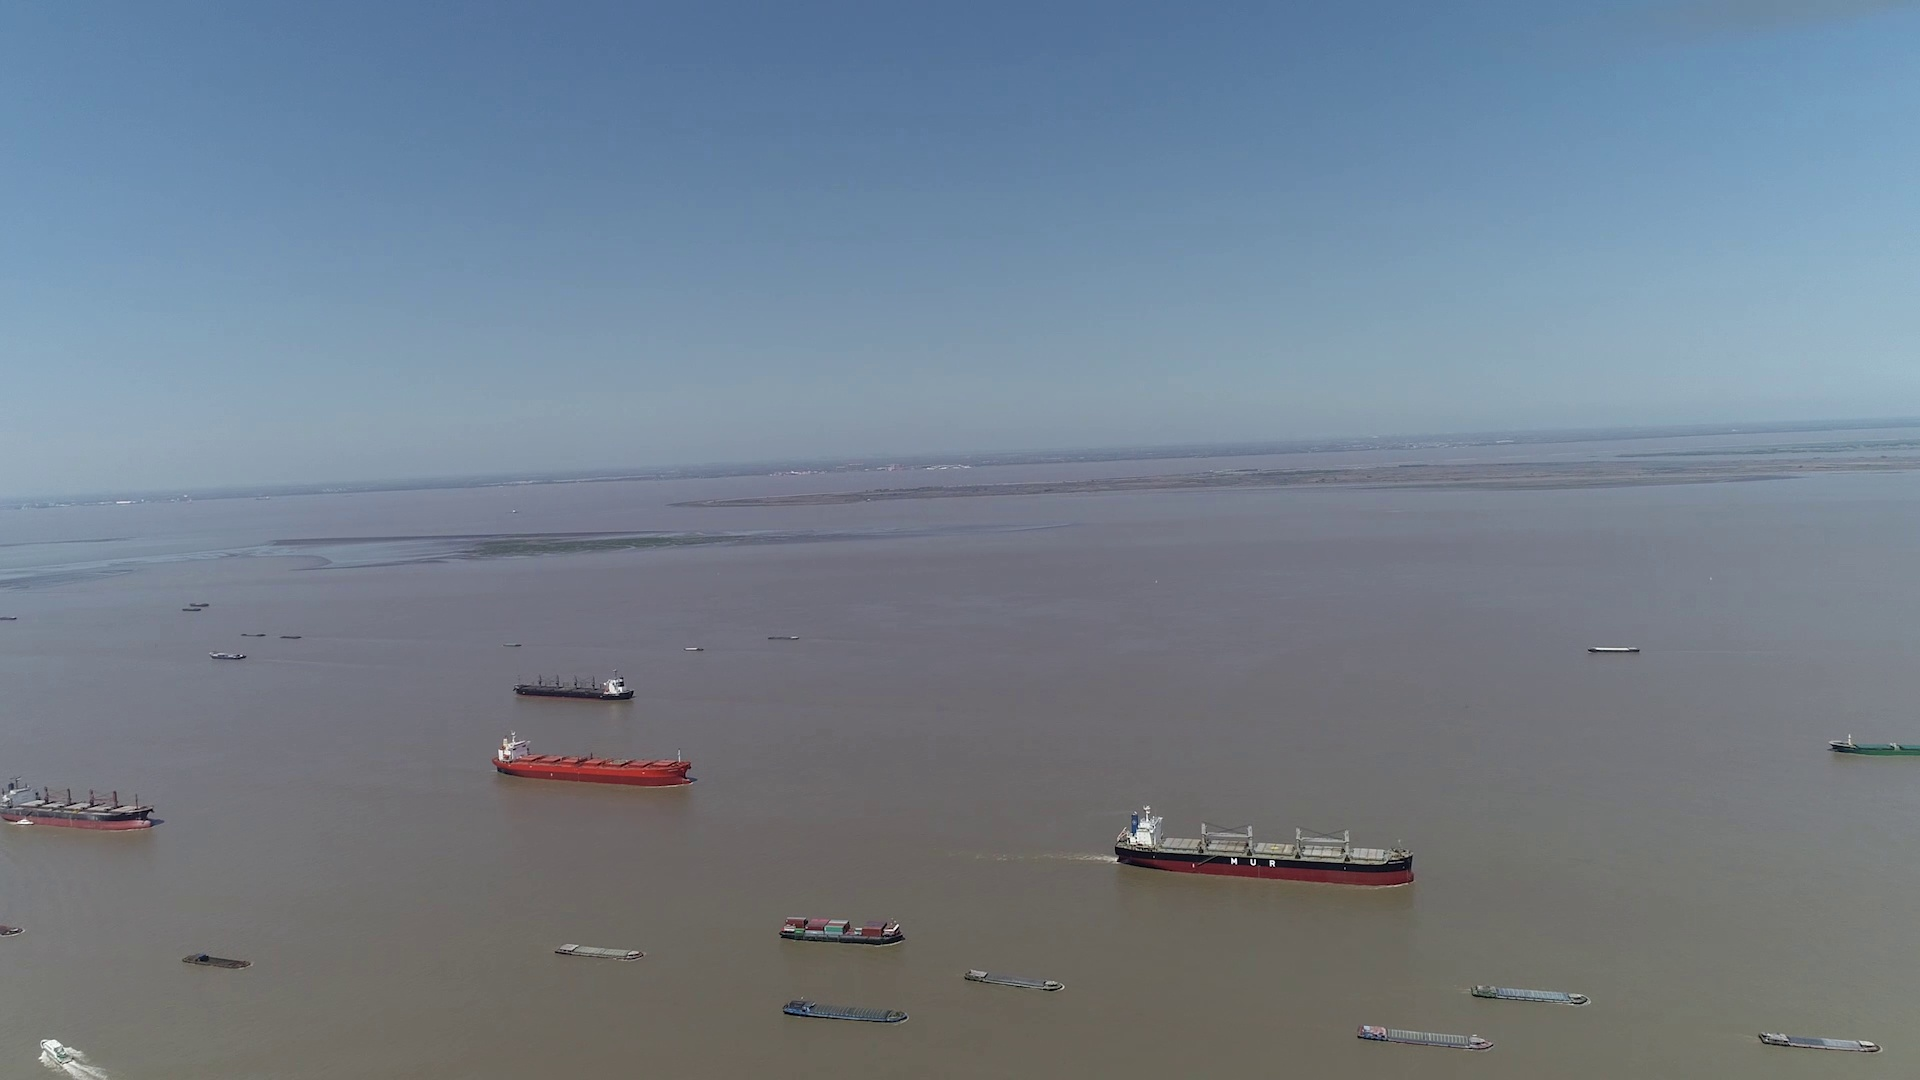ship: (1114, 804, 1418, 887), (493, 731, 692, 787), (0, 771, 156, 833), (1356, 1022, 1495, 1051), (777, 915, 905, 945), (513, 673, 634, 700), (1755, 1029, 1882, 1054), (782, 998, 909, 1023), (1472, 982, 1588, 1005), (964, 968, 1065, 990), (1829, 735, 1919, 757), (553, 942, 644, 960), (40, 1040, 87, 1067), (182, 953, 251, 971), (1588, 646, 1639, 654), (212, 649, 247, 659), (0, 920, 21, 936)
